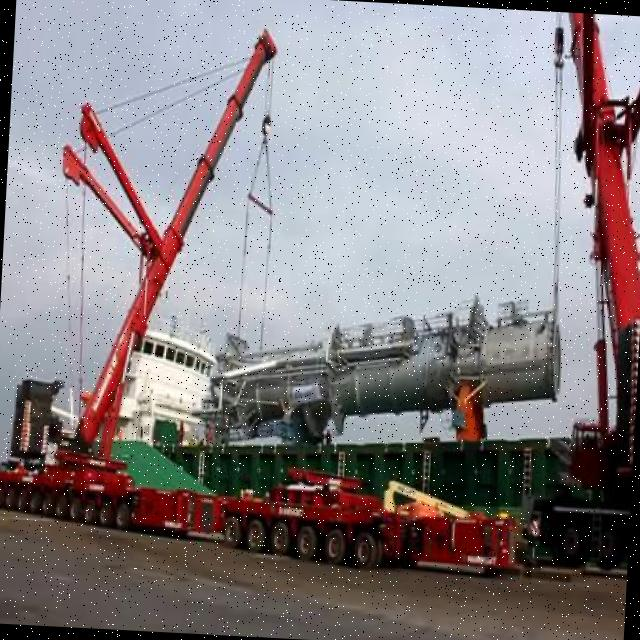Mobile Crane: (0, 12, 278, 540), (524, 11, 640, 562)
